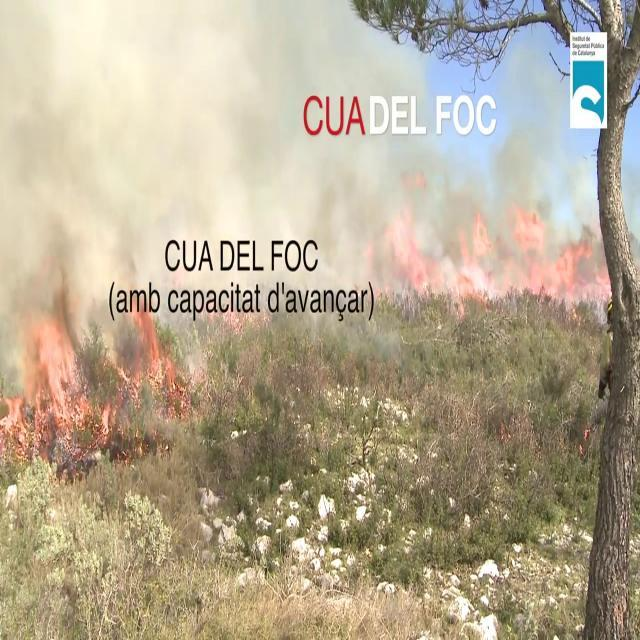Fire: (106, 310, 182, 432), (26, 304, 90, 438)
Smoke: (1, 0, 599, 326)
